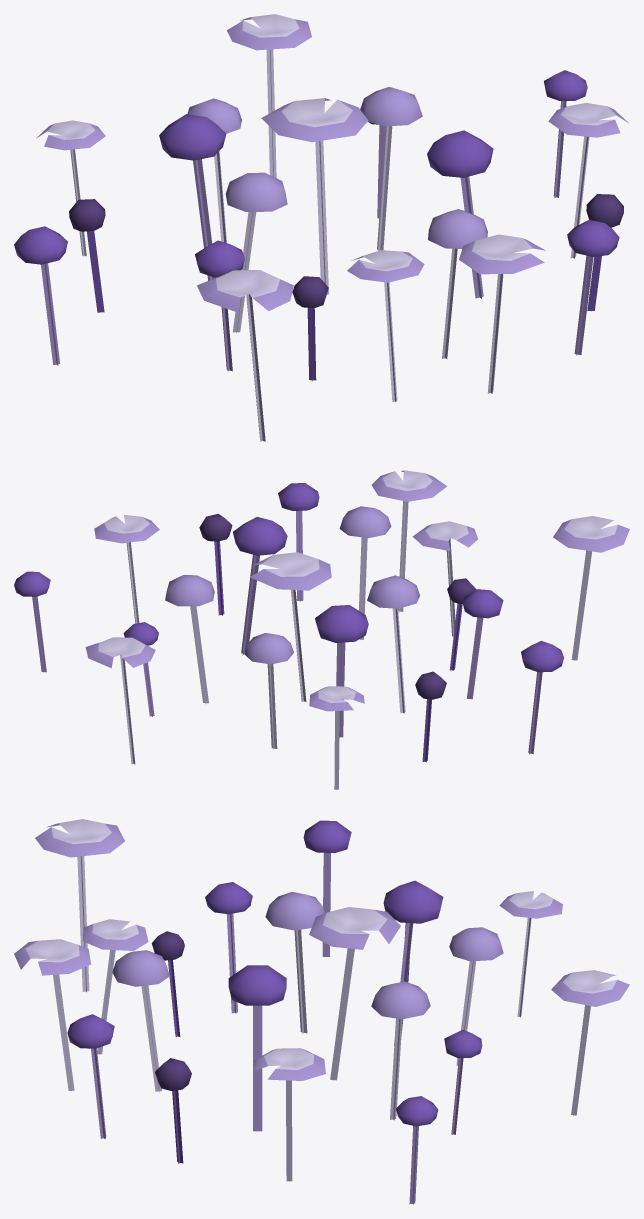
Rendered from Purple_Mushrooms_Cluster_1.fbx.
3 views of the same model, one above another, from view 1: azimuth 30°, elevation 25°; view 2: azimuth 150°, elevation 25°; view 3: azimuth 270°, elevation 25° (orthographic). The views are drawn at different scales.
Visible parts, largest first — view 1: Purple_Mushrooms_Cluster_1; view 2: Purple_Mushrooms_Cluster_1; view 3: Purple_Mushrooms_Cluster_1.
Boxes of the visible parts, bbox=[...] form: Purple_Mushrooms_Cluster_1: bbox=[14, 14, 628, 441]; Purple_Mushrooms_Cluster_1: bbox=[14, 470, 629, 789]; Purple_Mushrooms_Cluster_1: bbox=[14, 819, 629, 1204].
Size of the model in its own units: 72.17 by 19.5 by 67.58.
Materials: 1 (1 with a texture image).
